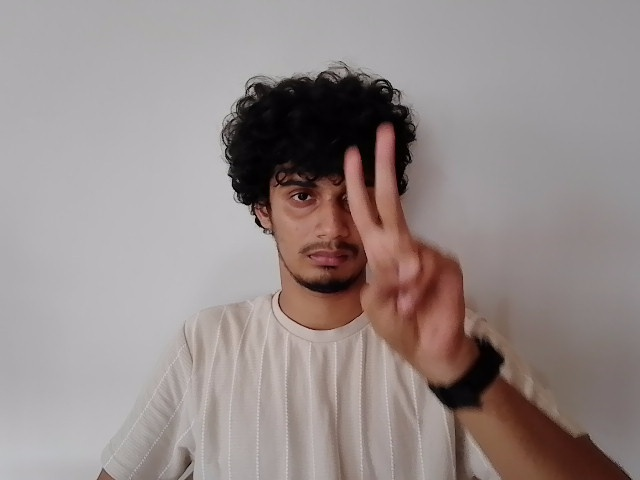travel: (344, 123, 484, 361)
